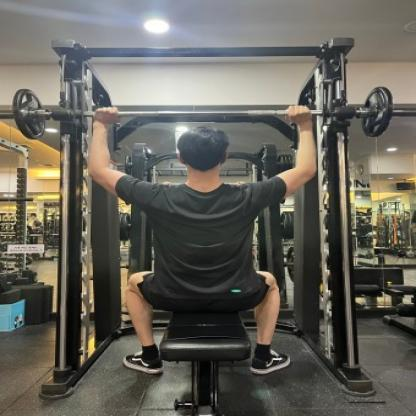smith machine: (37, 34, 376, 401)
